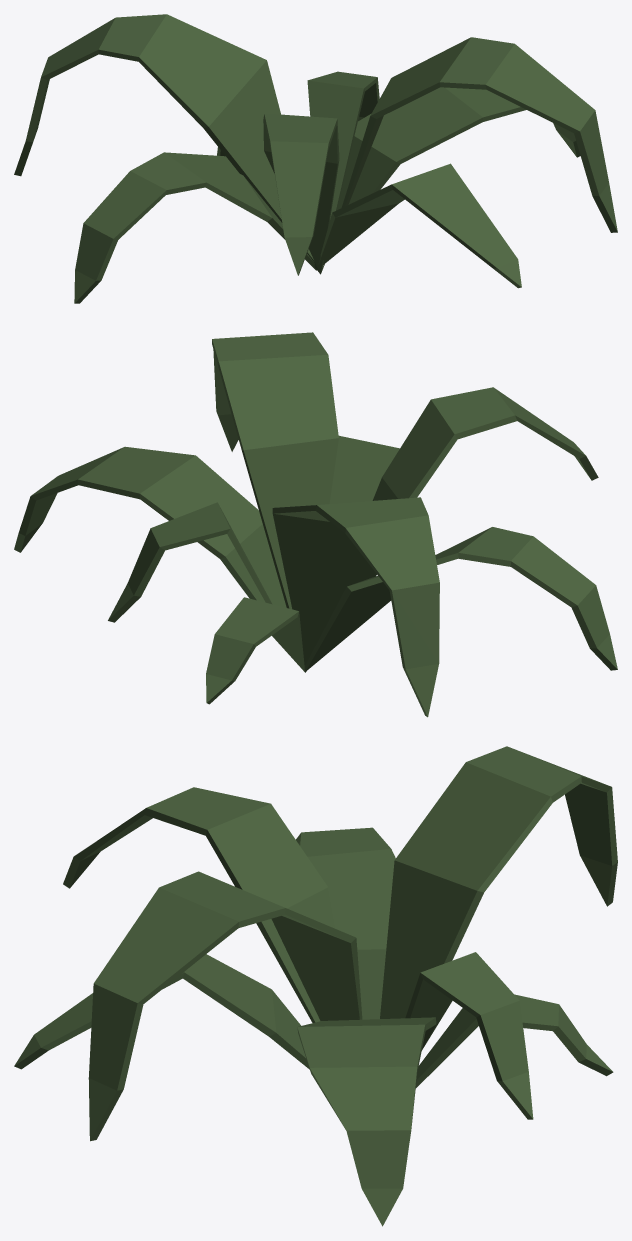
Rendered from plant-1.glb.
The picture shows the model from 3 angles, top to bottom: view 1: azimuth 30°, elevation 25°; view 2: azimuth 150°, elevation 25°; view 3: azimuth 270°, elevation 25°; orthographic projection. The views are drawn at different scales.
Visible parts, largest first — view 1: Plant_1; view 2: Plant_1; view 3: Plant_1.
Part boxes in pixels (x1=…): Plant_1: x1=14, y1=14, x2=617, y2=303; Plant_1: x1=14, y1=332, x2=617, y2=717; Plant_1: x1=14, y1=746, x2=617, y2=1226.
Size of the model in its own units: 1.2 by 0.5073 by 0.9456.
